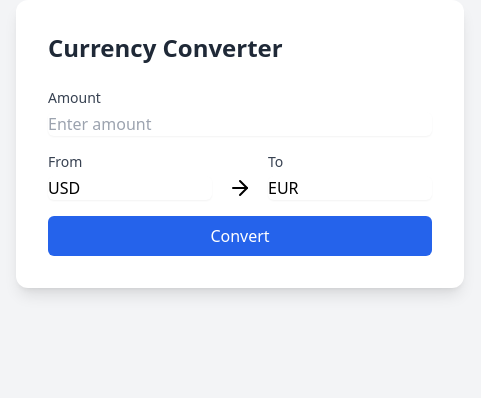
it: CurrencyConverter › performs conversion from EUR to USD
Type "100" into the field with placeholder "Enter amount" at x=240, y=124, box [48,112,432,136]
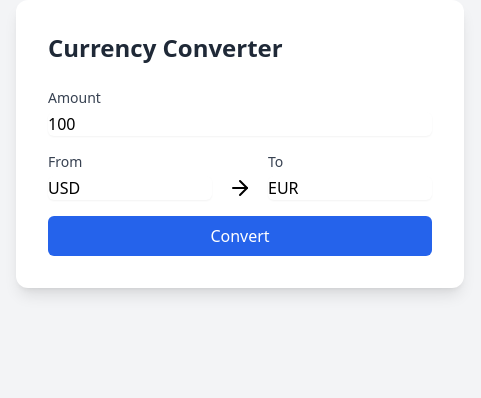
Type "EUR" into the field with placeholder "USD" below "From" at x=130, y=188, box [48,176,212,200]
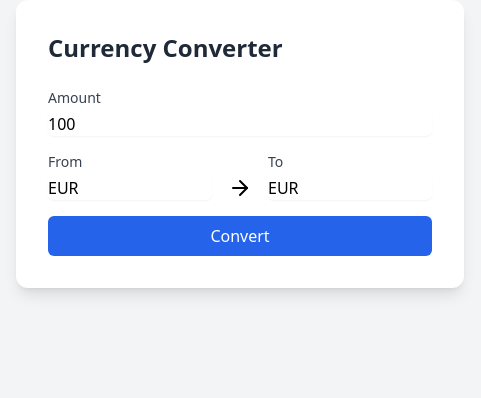
Type "USD" into the field with placeholder "EUR" below "To" at x=350, y=188, box [268,176,432,200]
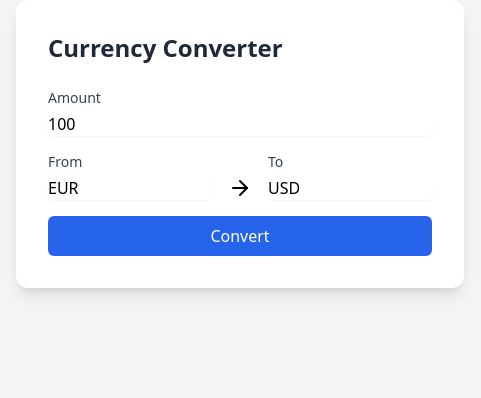
Click the button "Convert" at x=240, y=236, box [48,216,432,256]
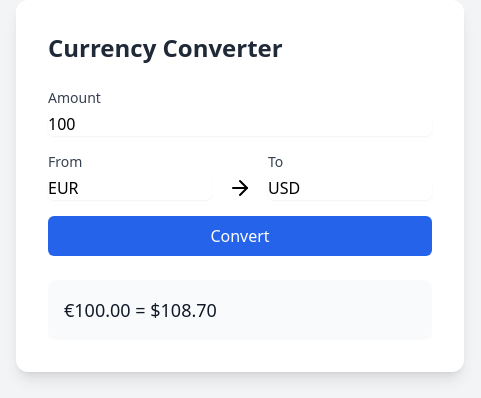
Expected: the text "€100.00 = $108.70" is shown, [64,298,217,322]
